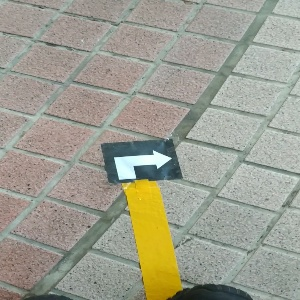right: (102, 139, 181, 181)
